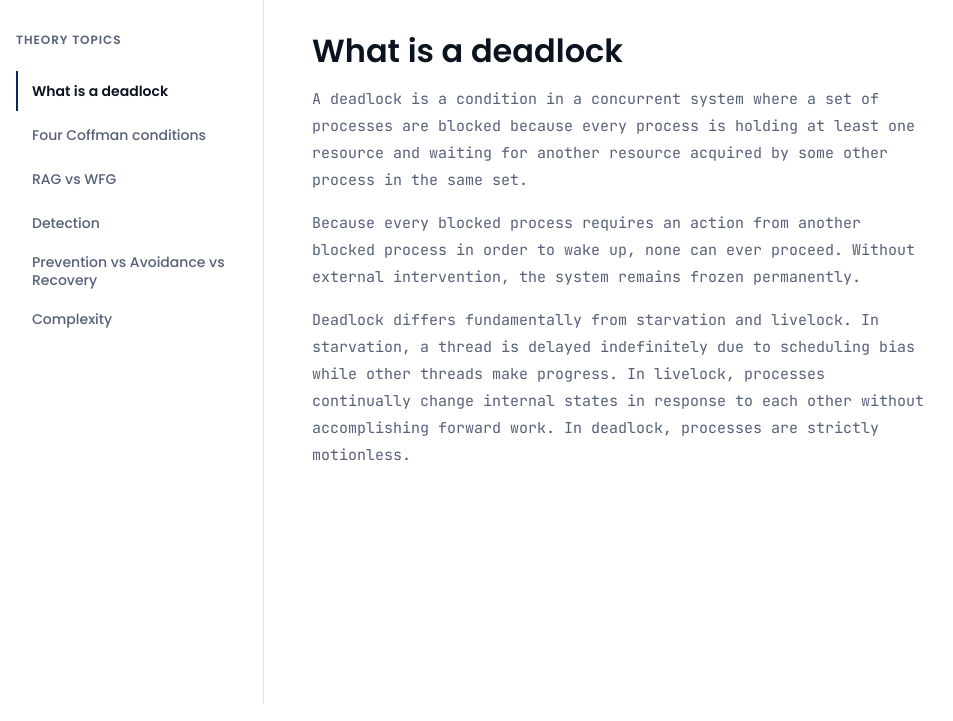
Test case: Learn page › wires each tab to the panel it controls and shows the complexity table
The image size is (953, 721).
Click the tab "Complexity" at [128, 319], box left=16, top=299, right=239, bottom=339
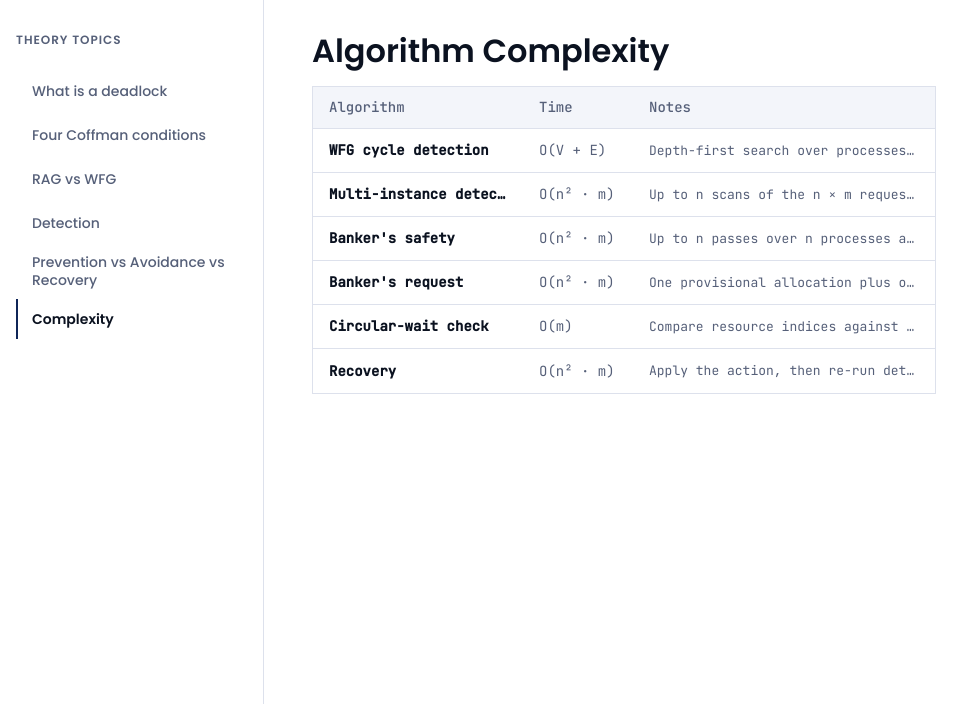
Expected: the table named "Algorithm complexity table" shows "Banker's safety", left=329, top=229, right=455, bottom=247
Expected: the table named "Algorithm complexity table" shows "O(n² · m)", left=539, top=185, right=615, bottom=203
